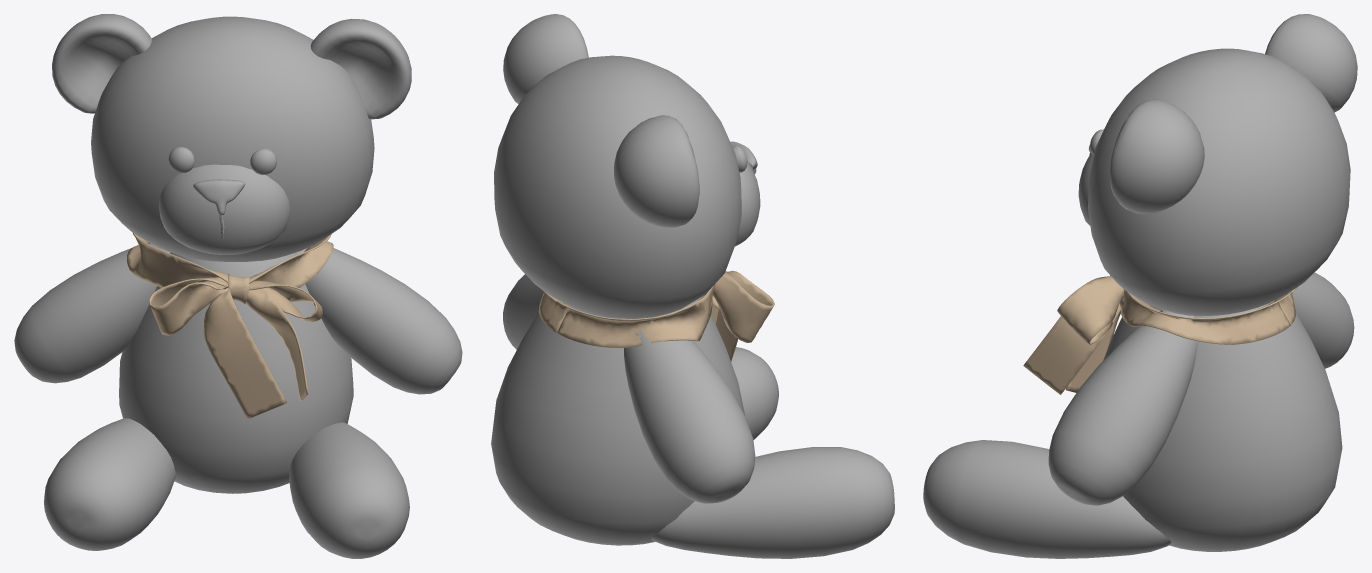
File: KK_teddyBear.fbx
3 renders of one model, left to right at view 1: azimuth 30°, elevation 25°; view 2: azimuth 150°, elevation 25°; view 3: azimuth 270°, elevation 25°, orthographic. The views are drawn at different scales.
Parts seen in each view (by area): view 1: bear.002, bow_bear; view 2: bear.002, bow_bear; view 3: bear.002, bow_bear.
Part boxes in pixels (x1,y1,x2,y2): bear.002: (14,14,462,558); bow_bear: (126,233,333,418); bear.002: (491,14,894,558); bow_bear: (538,270,774,361); bear.002: (923,14,1357,558); bow_bear: (1023,275,1297,394).
Size of the model in its own units: 315 by 354 by 289.
